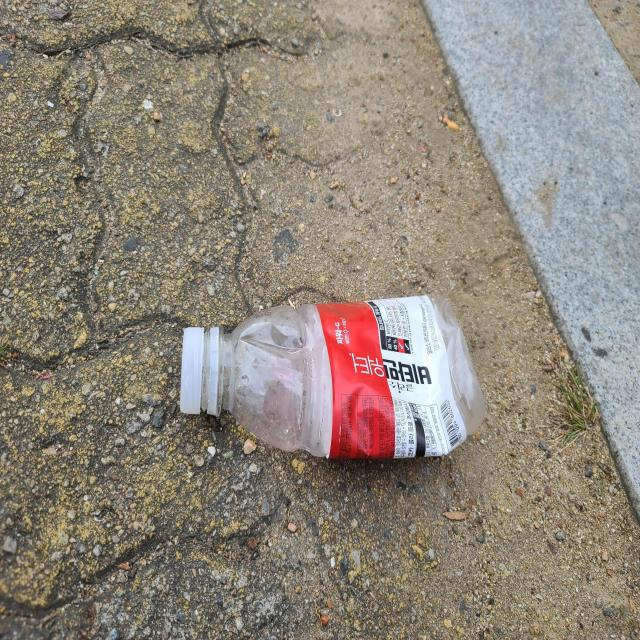plastic: (180, 295, 486, 458)
